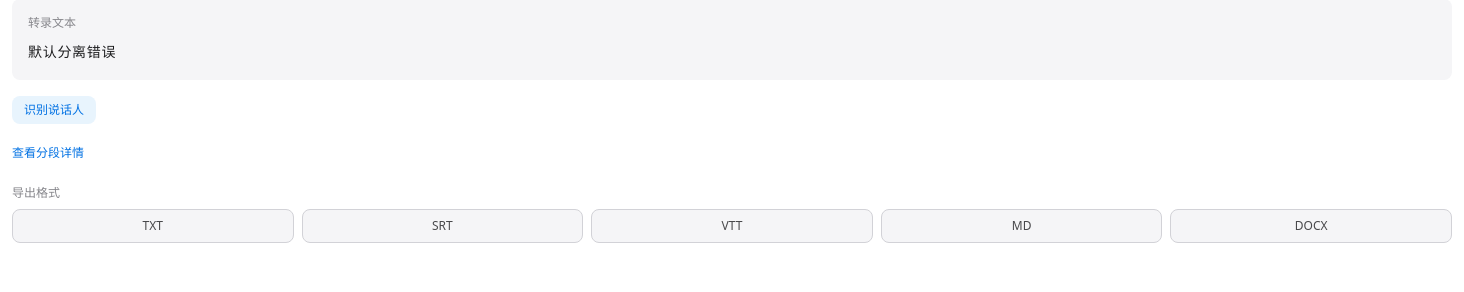
Test: TranscriptionResult — branch push › uses the default diarize error when the failure carries no message
This screenshot has width=1464, height=292.
Step 1. Click the button "识别说话人" → coordinates (54, 110), box x1=12 y1=96 x2=96 y2=124
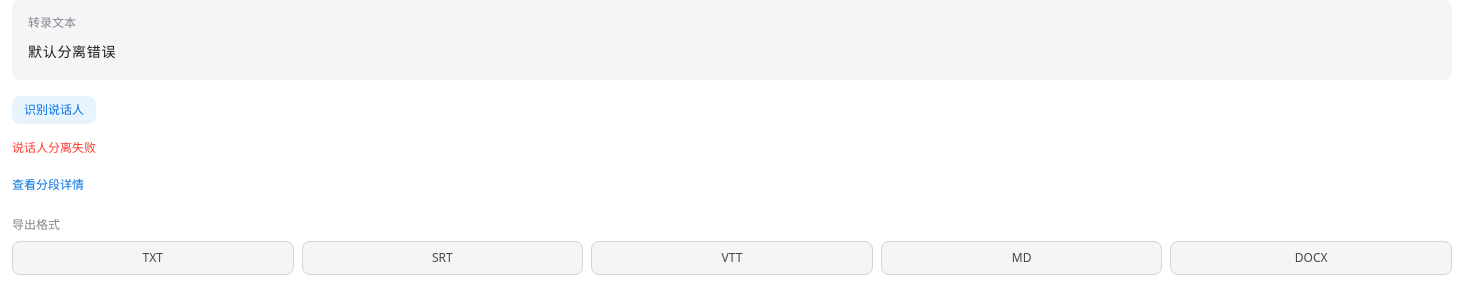
Expected: the text "说话人分离失败" is shown, x1=12 y1=139 x2=96 y2=156
